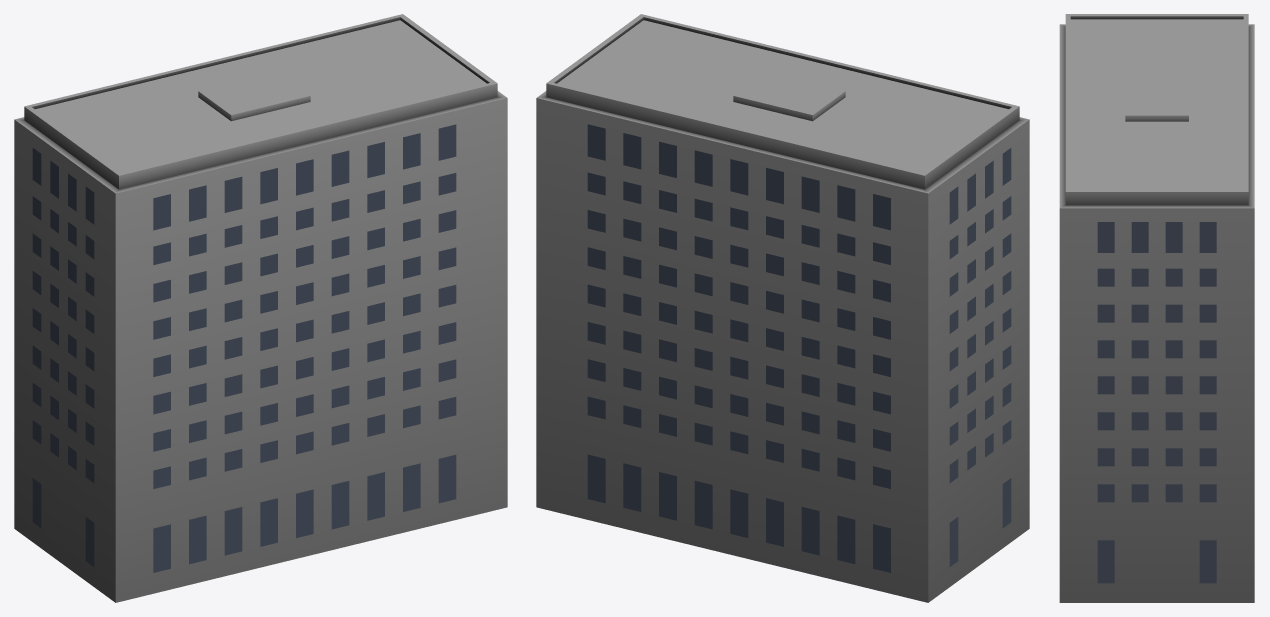
The model's file is Industrial_OfficeBuilding_alt04.glb.
The picture shows the model from 3 angles, left to right: view 1: azimuth 30°, elevation 25°; view 2: azimuth 150°, elevation 25°; view 3: azimuth 270°, elevation 25°; orthographic projection. The views are drawn at different scales.
Visible parts, largest first — view 1: base.037, windowRefl.020; view 2: base.037, windowRefl.020; view 3: base.037, windowRefl.020.
Part boxes in pixels (x1=…): base.037: x1=14, y1=14, x2=507, y2=602; windowRefl.020: x1=32, y1=124, x2=456, y2=572; base.037: x1=536, y1=14, x2=1029, y2=602; windowRefl.020: x1=587, y1=124, x2=1011, y2=572; base.037: x1=1059, y1=14, x2=1254, y2=602; windowRefl.020: x1=1097, y1=222, x2=1216, y2=583.
Size of the model in its own units: 24.37 by 25.11 by 10.96.
